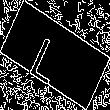L_NE: (34, 26, 76, 84)
